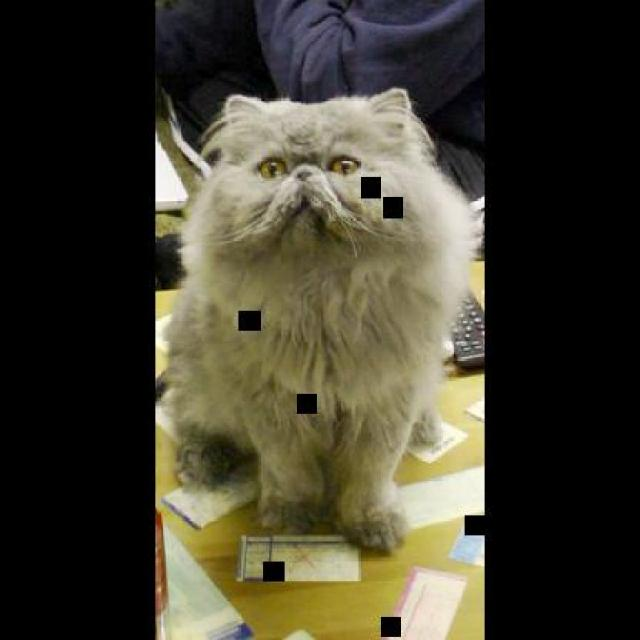unauthorized: (154, 85, 483, 552)
